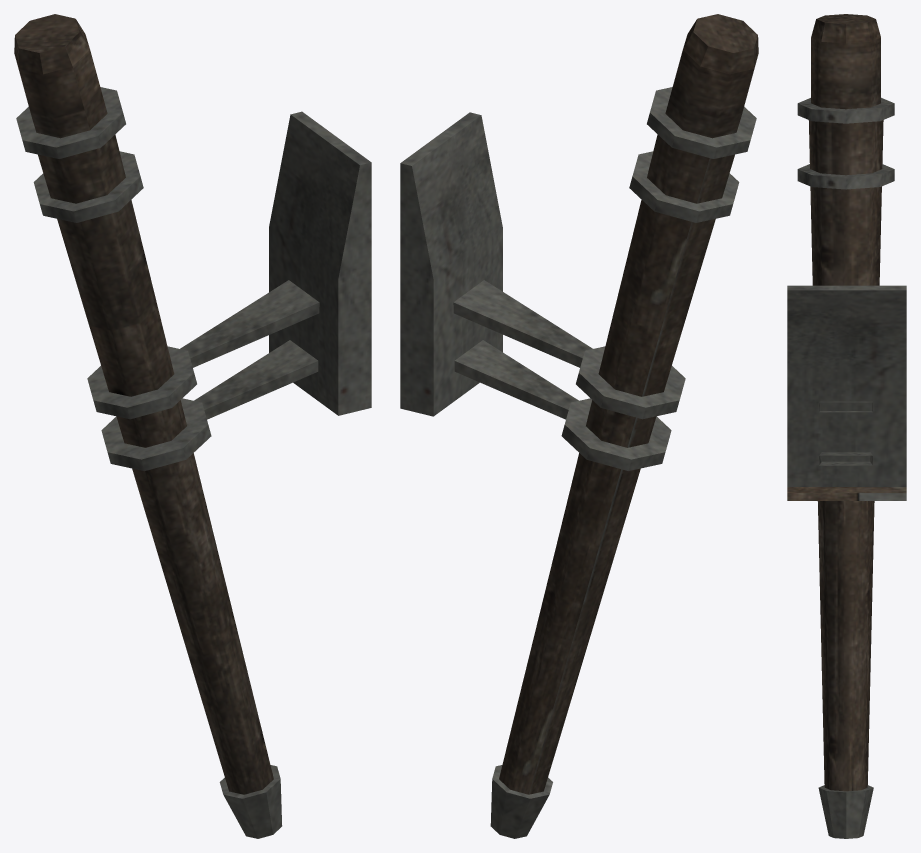
Rendered from Torch_B.FBX.
The picture shows the model from 3 angles, left to right: view 1: azimuth 30°, elevation 25°; view 2: azimuth 150°, elevation 25°; view 3: azimuth 270°, elevation 25°; orthographic projection. The views are drawn at different scales.
Parts seen in each view (by area): view 1: Object005; view 2: Object005; view 3: Object005.
Boxes of the visible parts, bbox=[...] form: Object005: bbox=[14, 14, 371, 838]; Object005: bbox=[400, 14, 758, 838]; Object005: bbox=[787, 14, 906, 838].
Size of the model in its own units: 32.19 by 82.98 by 12.17.
1 material, 1 textured.
